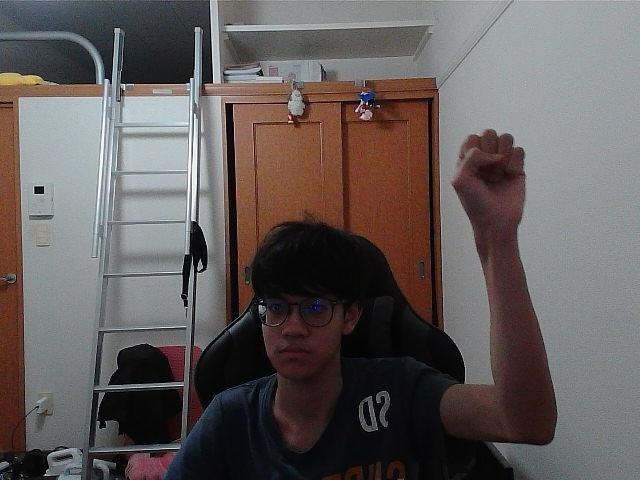closed_palm: (462, 133, 518, 221)
